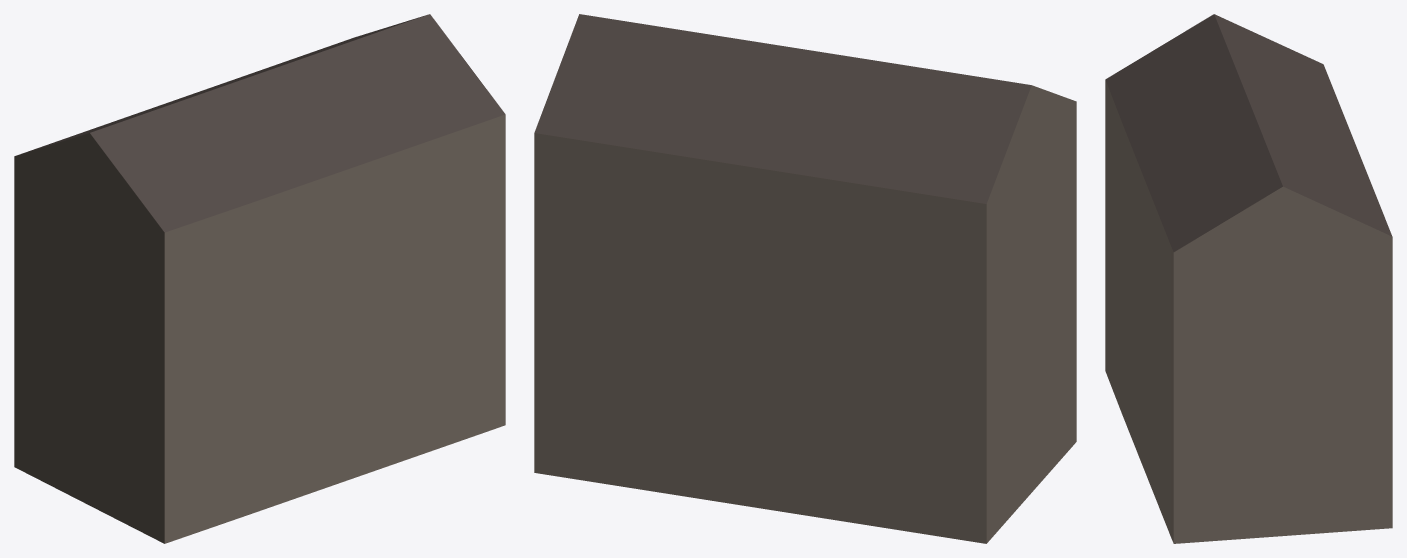
The picture shows the model from 3 angles, left to right: view 1: azimuth 30°, elevation 25°; view 2: azimuth 150°, elevation 25°; view 3: azimuth 270°, elevation 25°; orthographic projection. The views are drawn at different scales.
Parts seen in each view (by area): view 1: HP-w1424106444; view 2: HP-w1424106444; view 3: HP-w1424106444.
Part boxes in pixels (x1,y1,x2,y2): HP-w1424106444: (14,14,505,543); HP-w1424106444: (534,14,1076,543); HP-w1424106444: (1105,14,1392,543).
Size of the model in its own units: 8.31 by 7.2 by 5.36.
